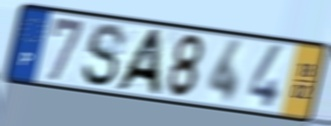4: (245, 41, 286, 113), (204, 37, 244, 108)
7: (48, 14, 88, 84)
8: (164, 32, 206, 100)
A: (111, 27, 166, 98)
S: (79, 21, 129, 90)
